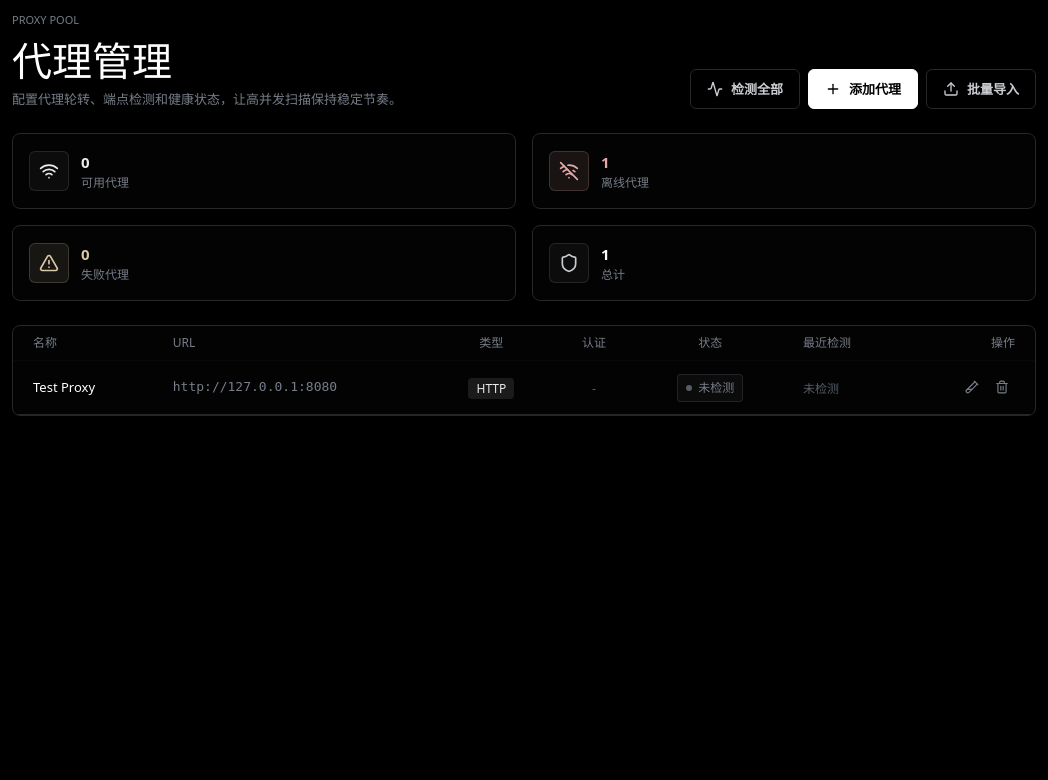
Test: ProxyManager proxy testing feedback › shows an in-progress notice and then renders the proxy test result
Expected: the text "Test Proxy" is shown, [13,360,153,414]
Click the button named "测试代理": (972,387) [959,374,985,400]
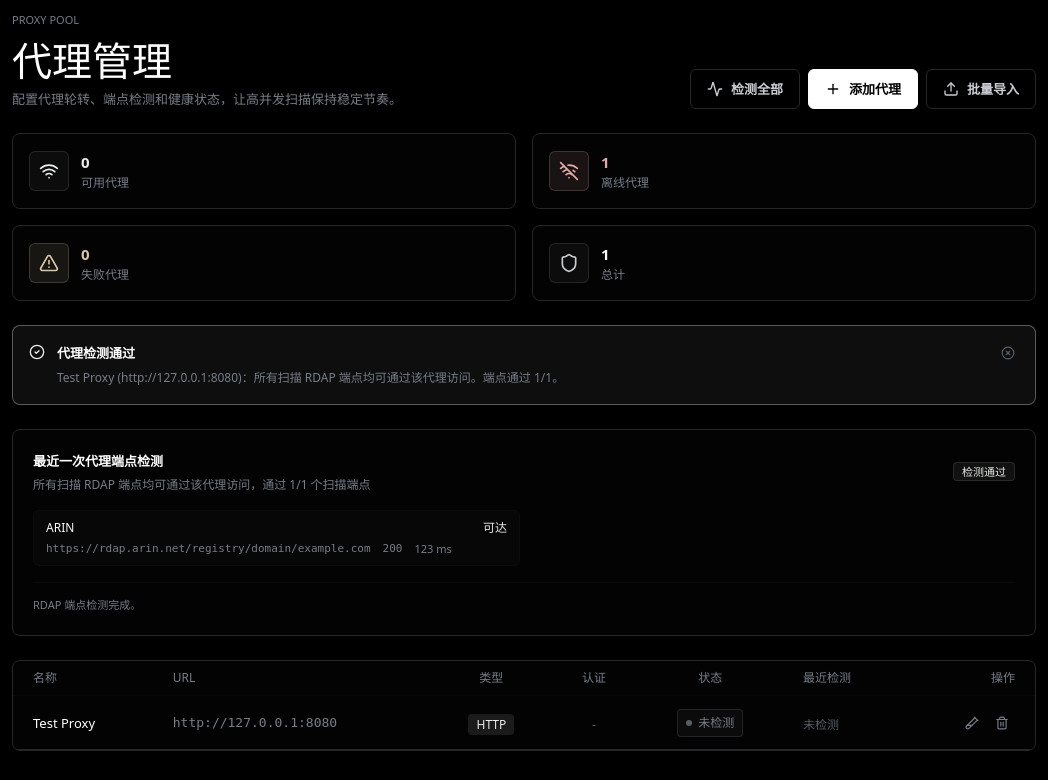
Now the text "代理检测通过" is shown, box [57,344,135,362]
Now the text "端点通过 1/1" is shown, box [57,368,564,386]
Now the heading "最近一次代理端点检测" is shown, box [33,452,163,470]
